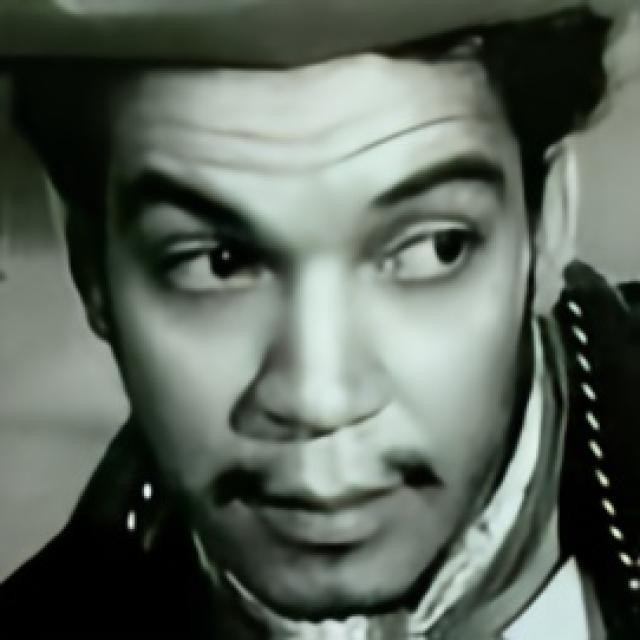surprise: (111, 49, 531, 622)
